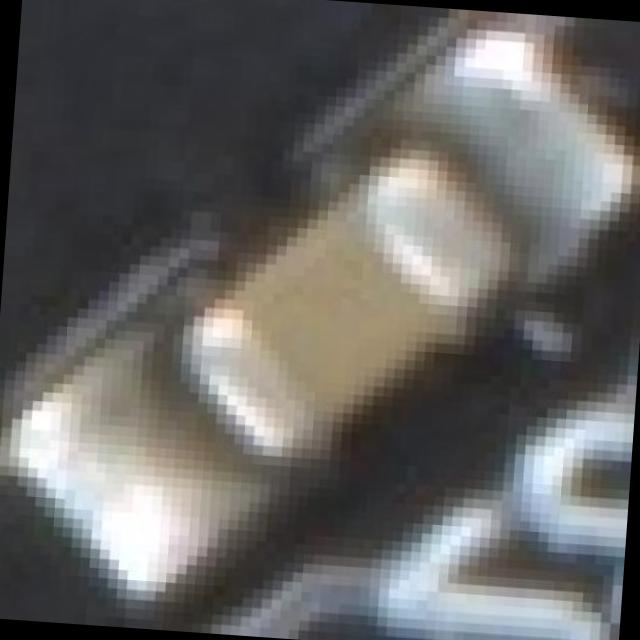capacitor: (75, 91, 569, 534)
